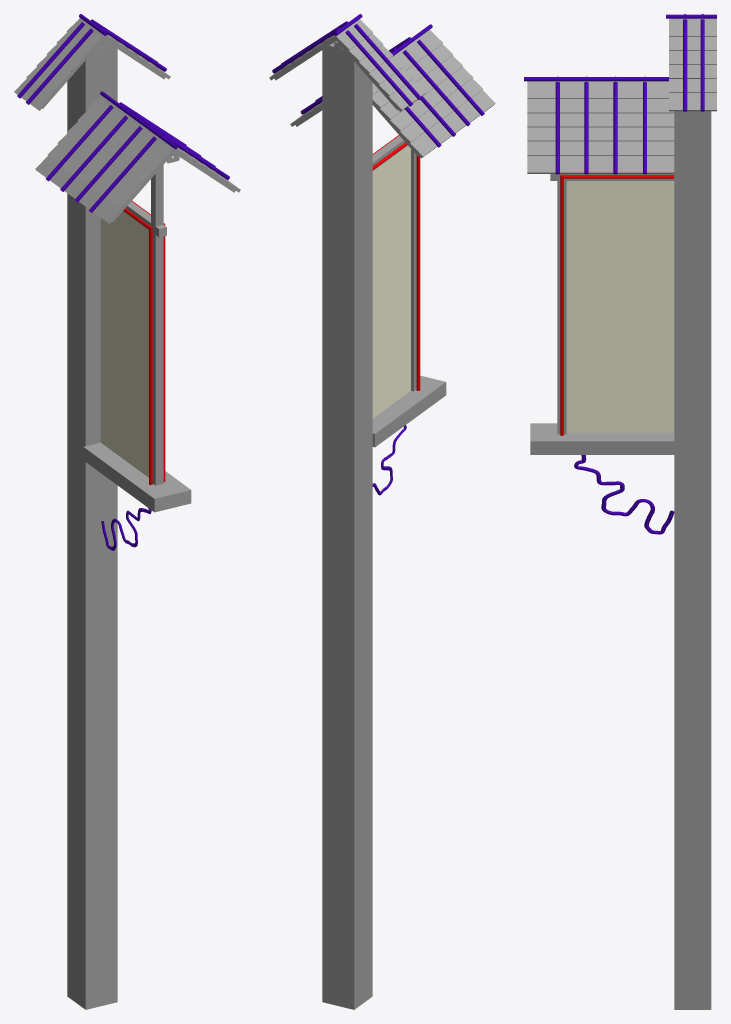
Rendered from dekakanban.fbx.
3 views of the same model, side by side, from view 1: azimuth 30°, elevation 25°; view 2: azimuth 150°, elevation 25°; view 3: azimuth 270°, elevation 25° (orthographic).
Visible parts, largest first — view 1: polySurface1, polySurface3, polySurface15, polySurface11, polySurface16, polySurface13, nurbsToPoly1; view 2: polySurface1, polySurface3, polySurface15, polySurface11, polySurface16, polySurface13; view 3: polySurface1, polySurface3, polySurface15, polySurface16, polySurface11, polySurface13, nurbsToPoly1, pCylinder1.
Part boxes in pixels (box(x1,y1,x2,y2)): polySurface1: box(67, 43, 191, 1009); polySurface3: box(100, 211, 148, 477); polySurface15: box(35, 95, 240, 223); polySurface11: box(17, 19, 229, 212); polySurface16: box(14, 18, 170, 110); polySurface13: box(123, 201, 165, 484); nurbsToPoly1: box(101, 508, 151, 550); polySurface1: box(322, 41, 446, 1009); polySurface3: box(372, 145, 410, 418); polySurface15: box(290, 29, 495, 158); polySurface11: box(272, 21, 484, 147); polySurface16: box(269, 19, 425, 111); polySurface13: box(372, 135, 420, 390); polySurface1: box(530, 111, 711, 1009); polySurface3: box(566, 181, 674, 432); polySurface15: box(527, 81, 674, 173); polySurface16: box(669, 18, 716, 111); polySurface11: box(555, 14, 704, 174); polySurface13: box(560, 174, 673, 435); nurbsToPoly1: box(574, 455, 674, 534); pCylinder1: box(524, 77, 668, 81).
Bounding box in the file's own units: 30.88 × 205 × 36.32.
